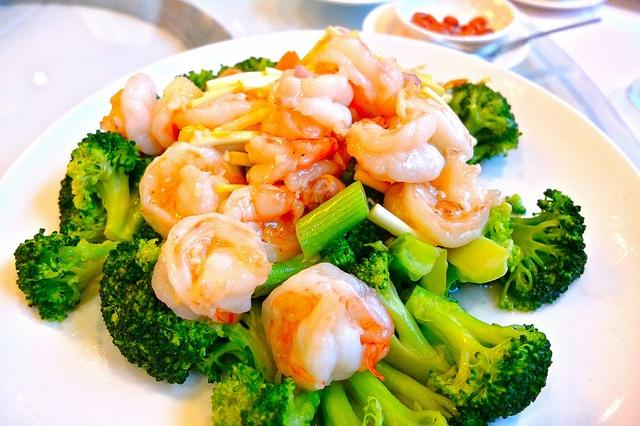broccoli: (98, 219, 282, 385), (404, 285, 552, 419), (498, 188, 588, 312), (322, 360, 488, 426), (59, 129, 154, 244), (13, 222, 122, 322), (342, 250, 436, 359), (210, 362, 322, 425), (252, 236, 358, 298), (381, 327, 455, 387), (436, 234, 511, 292), (446, 82, 518, 138), (385, 233, 441, 294), (345, 218, 391, 263), (218, 56, 278, 75), (179, 69, 219, 92)
green onion: (296, 180, 370, 262), (251, 252, 319, 298), (367, 204, 438, 248)
